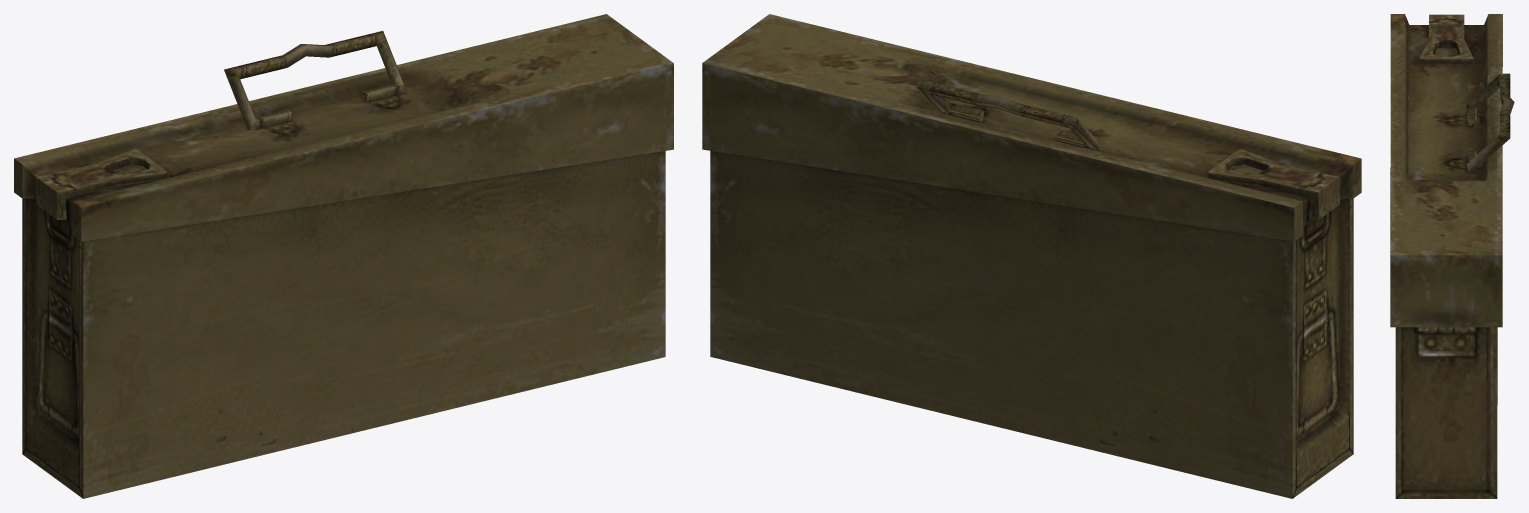
The model's file is caixa_municao_mg42.glb.
3 views of the same model, side by side, from view 1: azimuth 30°, elevation 25°; view 2: azimuth 150°, elevation 25°; view 3: azimuth 270°, elevation 25° (orthographic). The views are drawn at different scales.
Visible parts, largest first — view 1: Object_2; view 2: Object_2; view 3: Object_2.
Boxes of the visible parts, bbox=[...] form: Object_2: bbox=[14, 14, 673, 498]; Object_2: bbox=[702, 14, 1361, 498]; Object_2: bbox=[1390, 14, 1514, 498].
Bounding box in the file's own units: 0.3 × 0.1617 × 0.0652.
Materials: 1 (1 with a texture image).
